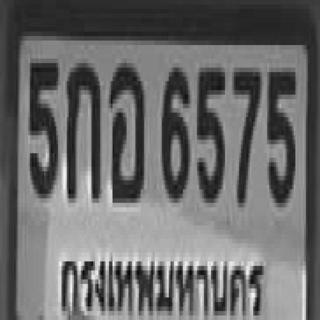A01: (65, 59, 99, 198)
A43: (107, 59, 142, 198)
N05: (265, 68, 294, 203), (28, 59, 56, 194), (195, 63, 223, 198)
N06: (160, 63, 188, 198)
N07: (232, 63, 260, 203)
P04: (50, 240, 268, 320)
